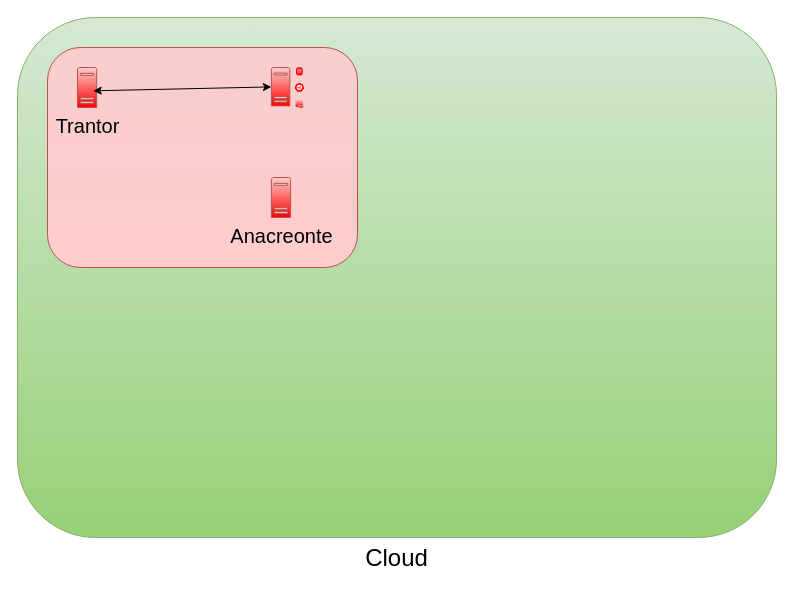
Image size: 794x591. Some labels were removed from this diagram. Here are the shapes that lost their labels. From the top down, the box of each, then its label:
(270, 66, 290, 106): Terminus
(46, 46, 358, 268): Management zone
